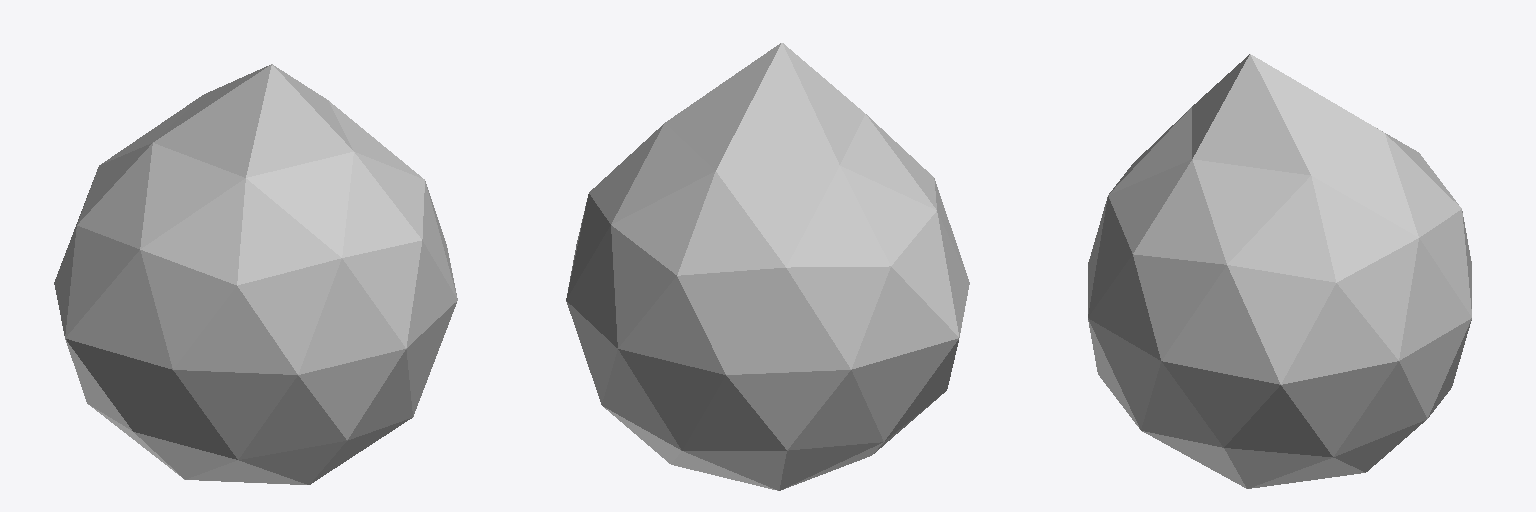
Rendered from head.obj.
3 renders of one model, left to right at view 1: azimuth 30°, elevation 25°; view 2: azimuth 150°, elevation 25°; view 3: azimuth 270°, elevation 25°, orthographic.
Visible parts, largest first — view 1: Head_Sphere.001; view 2: Head_Sphere.001; view 3: Head_Sphere.001.
Boxes of the visible parts, x1=… form: Head_Sphere.001: x1=54, y1=64, x2=457, y2=484; Head_Sphere.001: x1=566, y1=43, x2=969, y2=490; Head_Sphere.001: x1=1088, y1=54, x2=1471, y2=488.
Bounding box in the file's own units: 2.09 × 2.11 × 1.82.